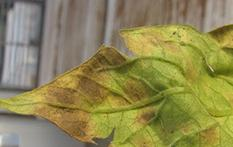Tomato mold leaf: (0, 21, 233, 147)
